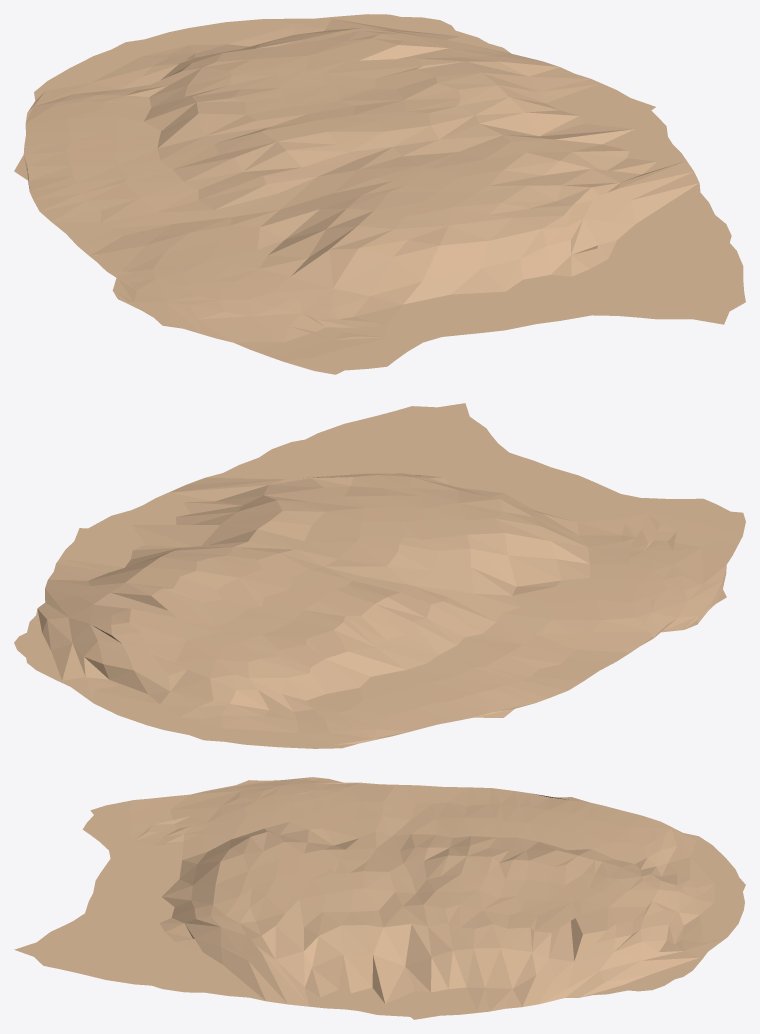
File: island.glb
The picture shows the model from 3 angles, top to bottom: view 1: azimuth 30°, elevation 25°; view 2: azimuth 150°, elevation 25°; view 3: azimuth 270°, elevation 25°; orthographic projection. The views are drawn at different scales.
Parts seen in each view (by area): view 1: Insel; view 2: Insel; view 3: Insel.
Part boxes in pixels (box(x1,y1,x2,y2)): Insel: box(14, 14, 745, 374); Insel: box(14, 403, 745, 748); Insel: box(14, 777, 745, 1019).
Bounding box in the file's own units: 0.8559 × 0.0446 × 1.09.
Materials: 1 (1 with a texture image).
